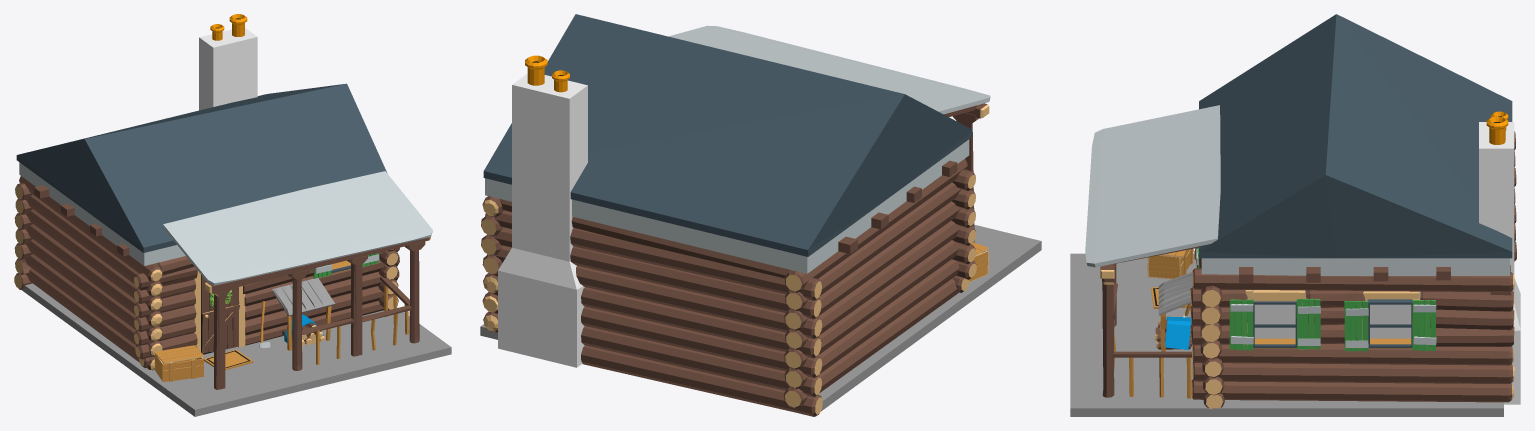
Rendered from cabin.glb.
The picture shows the model from 3 angles, left to right: view 1: azimuth 30°, elevation 25°; view 2: azimuth 150°, elevation 25°; view 3: azimuth 270°, elevation 25°; orthographic projection. The views are drawn at different scales.
Parts seen in each view (by area): view 1: group155880449, group1249612197, group1586743875, group1250466418, group14942143, group385332886, group690343594, group2096568958, group1317001952, group1796488872, group1843786430, group286457790 (+22 smaller); view 2: group385332886, group1317001952, group14942143, group1250466418, group690343594, group1249612197, group1586743875, group155880449, group386898959, group1418661774; view 3: group385332886, group155880449, group1586743875, group1249612197, group832684256, group1700492783, group1856994920, group690343594, group730840630, group14942143, group1008650552, group2048264474 (+18 smaller).
Boxes of the visible parts, x1,y1,x2,y2 form: group155880449: (84, 83, 387, 252); group1249612197: (163, 171, 432, 285); group1586743875: (22, 283, 451, 416); group1250466418: (19, 176, 162, 370); group14942143: (199, 28, 257, 110); group385332886: (16, 84, 344, 211); group690343594: (19, 162, 185, 265); group2096568958: (201, 275, 239, 354); group1317001952: (14, 183, 32, 289); group1796488872: (245, 286, 384, 335); group1843786430: (205, 237, 430, 293); group286457790: (272, 278, 335, 316); group385332886: (483, 14, 904, 256); group1317001952: (570, 228, 822, 416); group14942143: (498, 73, 587, 367); group1250466418: (784, 158, 967, 408); group690343594: (485, 139, 969, 273); group1249612197: (668, 25, 990, 116); group1586743875: (480, 224, 1041, 416); group155880449: (900, 94, 972, 188); group386898959: (501, 199, 791, 278); group1418661774: (525, 55, 547, 85); group385332886: (1325, 14, 1512, 258); group155880449: (1199, 14, 1336, 258); group1586743875: (1070, 253, 1503, 416); group1249612197: (1085, 105, 1220, 267); group832684256: (1192, 362, 1514, 383); group1700492783: (1191, 379, 1513, 402); group1856994920: (1192, 343, 1513, 365); group690343594: (1201, 258, 1509, 275); group730840630: (1192, 268, 1514, 291); group14942143: (1479, 122, 1520, 404); group1008650552: (1229, 298, 1320, 350); group2048264474: (1420, 291, 1513, 311).
Size of the model in its own units: 1.6 by 1.26 by 1.87.
